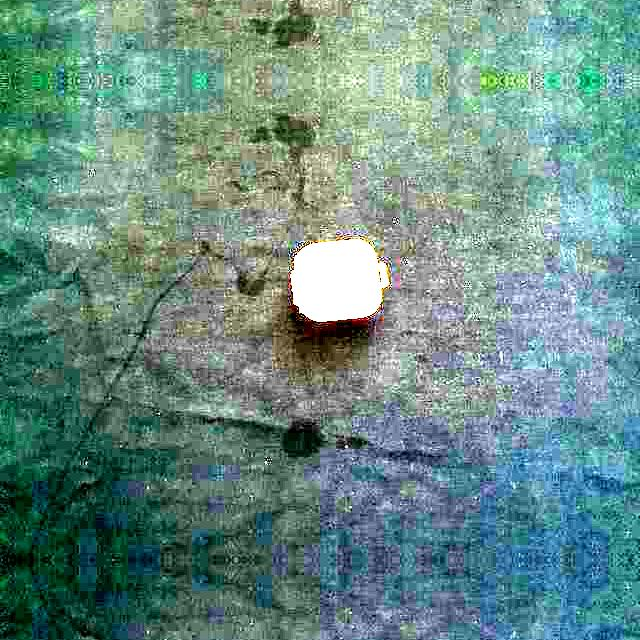Styrofoam: (288, 236, 388, 324), (291, 238, 388, 321)
